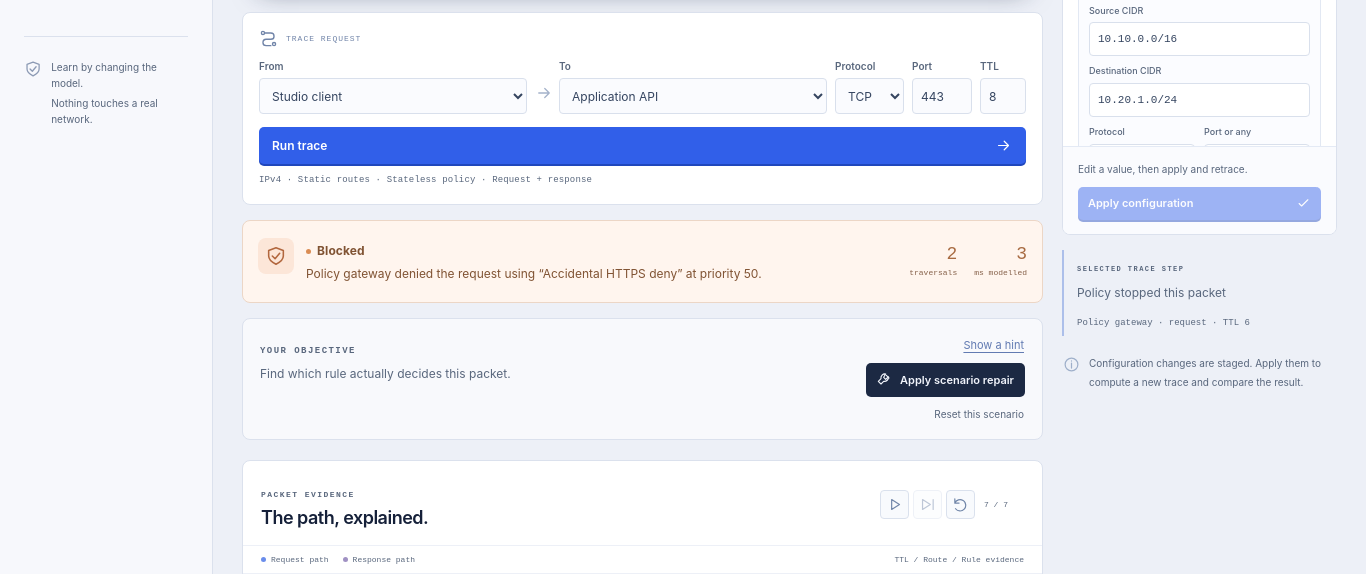
it: guided investigation using the actual forwarding engine › starts with the deciding deny rule and proves a targeted repair in both directions
(page scrolled)
Expected: the text "Blocked" is shown, [306,242,365,260]
Expected: the text "priority 50" is shown, [306,266,762,281]
Click the button "Apply scenario repair": (946, 380) [866,363,1025,397]
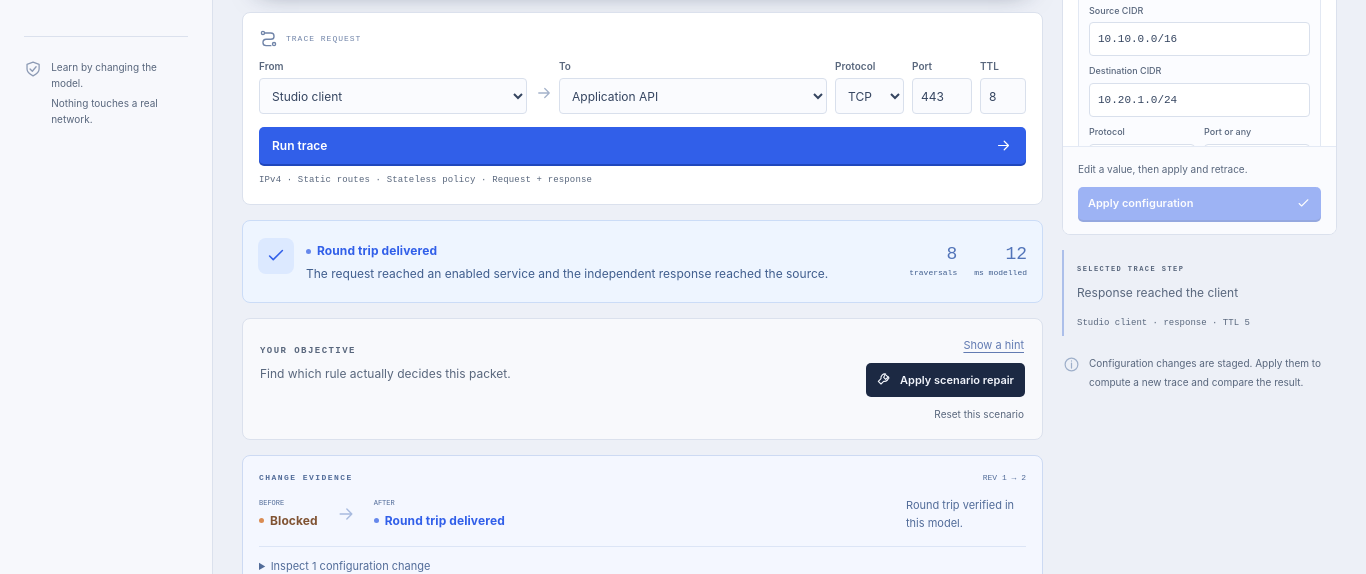
Expected: the 1st text "Round trip delivered" is shown, [306,242,437,260]
Expected: the text "Round trip delivered" below "AFTER" is shown, [385,513,505,528]
Expected: the text "Round trip verified in this model." is shown, [906,496,1026,533]
